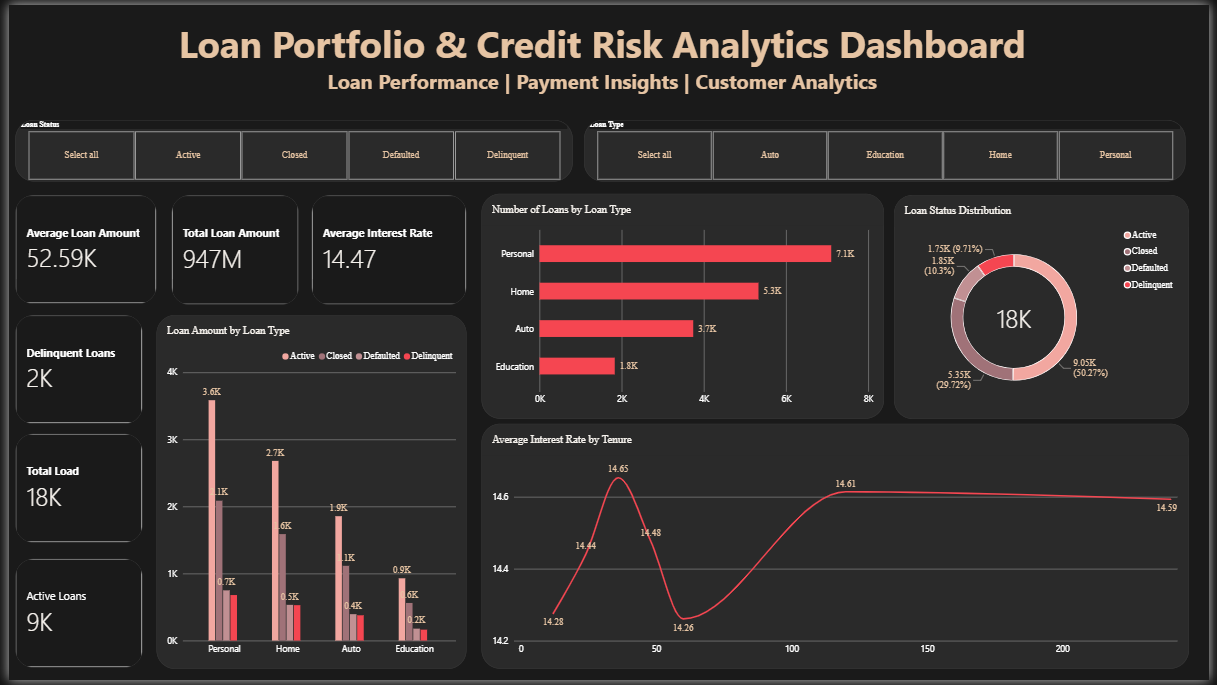

This screenshot's page, from the dashboard's own definition file:
{"tool":"powerbi","page":{"name":"Loan Portfolio Overview","canvas":[1920,1080],"ordinal":0},"visuals":[{"type":"cardVisual","fields":{"Data":["customers.Average Interest Rate"]},"box":[484,304,248,176],"z":0},{"type":"cardVisual","fields":{"Data":["customers.Average Loan Amount"]},"box":[10,304,226,174],"z":1000},{"type":"cardVisual","fields":{"Data":["customers.Delinquent Loans"]},"box":[10,496,204,174],"z":2000},{"type":"cardVisual","fields":{"Data":["customers.Total Load"]},"box":[10,686,204,174],"z":3000},{"type":"cardVisual","fields":{"Data":["customers.Total Loan Amount"]},"box":[260,304,204,176],"z":4000},{"type":"cardVisual","fields":{"Data":["loans.Active Loans"]},"box":[10,886,204,174],"z":5000},{"type":"donutChart","title":"Loan Status Distribution","fields":{"Category":["loans.Loan Status"],"Y":["CountNonNull(loans.Customer ID)"]},"box":[1416,304,472,358],"z":6000},{"type":"clusteredColumnChart","title":"Loan Amount by Loan Type","fields":{"Category":["loans.Loan Type"],"Series":["loans.Loan Status"],"Y":["CountNonNull(loans.Loan ID)"]},"box":[236,496,496,566],"z":7000},{"type":"barChart","title":"Number of Loans by Loan Type","fields":{"Category":["loans.Loan Type"],"Y":["CountNonNull(loans.Loan ID)"]},"box":[756,302,644,360],"z":8000},{"type":"lineChart","title":"Average Interest Rate by Tenure","fields":{"Category":["loans.Tenure"],"Y":["customers.Average Interest Rate"]},"box":[756,670,1132,392],"z":9000},{"type":"slicer","fields":{"Values":["loans.Loan Type"]},"box":[920,184,962,98],"z":10000},{"type":"slicer","fields":{"Values":["loans.Loan Status"]},"box":[10,184,892,98],"z":11000},{"type":"textbox","box":[10,22,1878,146],"z":12000}]}

Visuals, with their boxes in screenshot pixels (x1, y1, x2, y2), scaled from the page's 1920x1080 canvas onto the 1217x685 screenshot:
cardVisual - customers.Average Interest Rate: 307,193,464,304
cardVisual - customers.Average Loan Amount: 6,193,150,303
cardVisual - customers.Delinquent Loans: 6,315,136,425
cardVisual - customers.Total Load: 6,435,136,545
cardVisual - customers.Total Loan Amount: 165,193,294,304
cardVisual - loans.Active Loans: 6,562,136,672
"Loan Status Distribution" donutChart: 898,193,1197,420
"Loan Amount by Loan Type" clusteredColumnChart: 150,315,464,674
"Number of Loans by Loan Type" barChart: 479,192,887,420
"Average Interest Rate by Tenure" lineChart: 479,425,1197,674
slicer - loans.Loan Type: 583,117,1193,179
slicer - loans.Loan Status: 6,117,572,179
textbox: 6,14,1197,107
